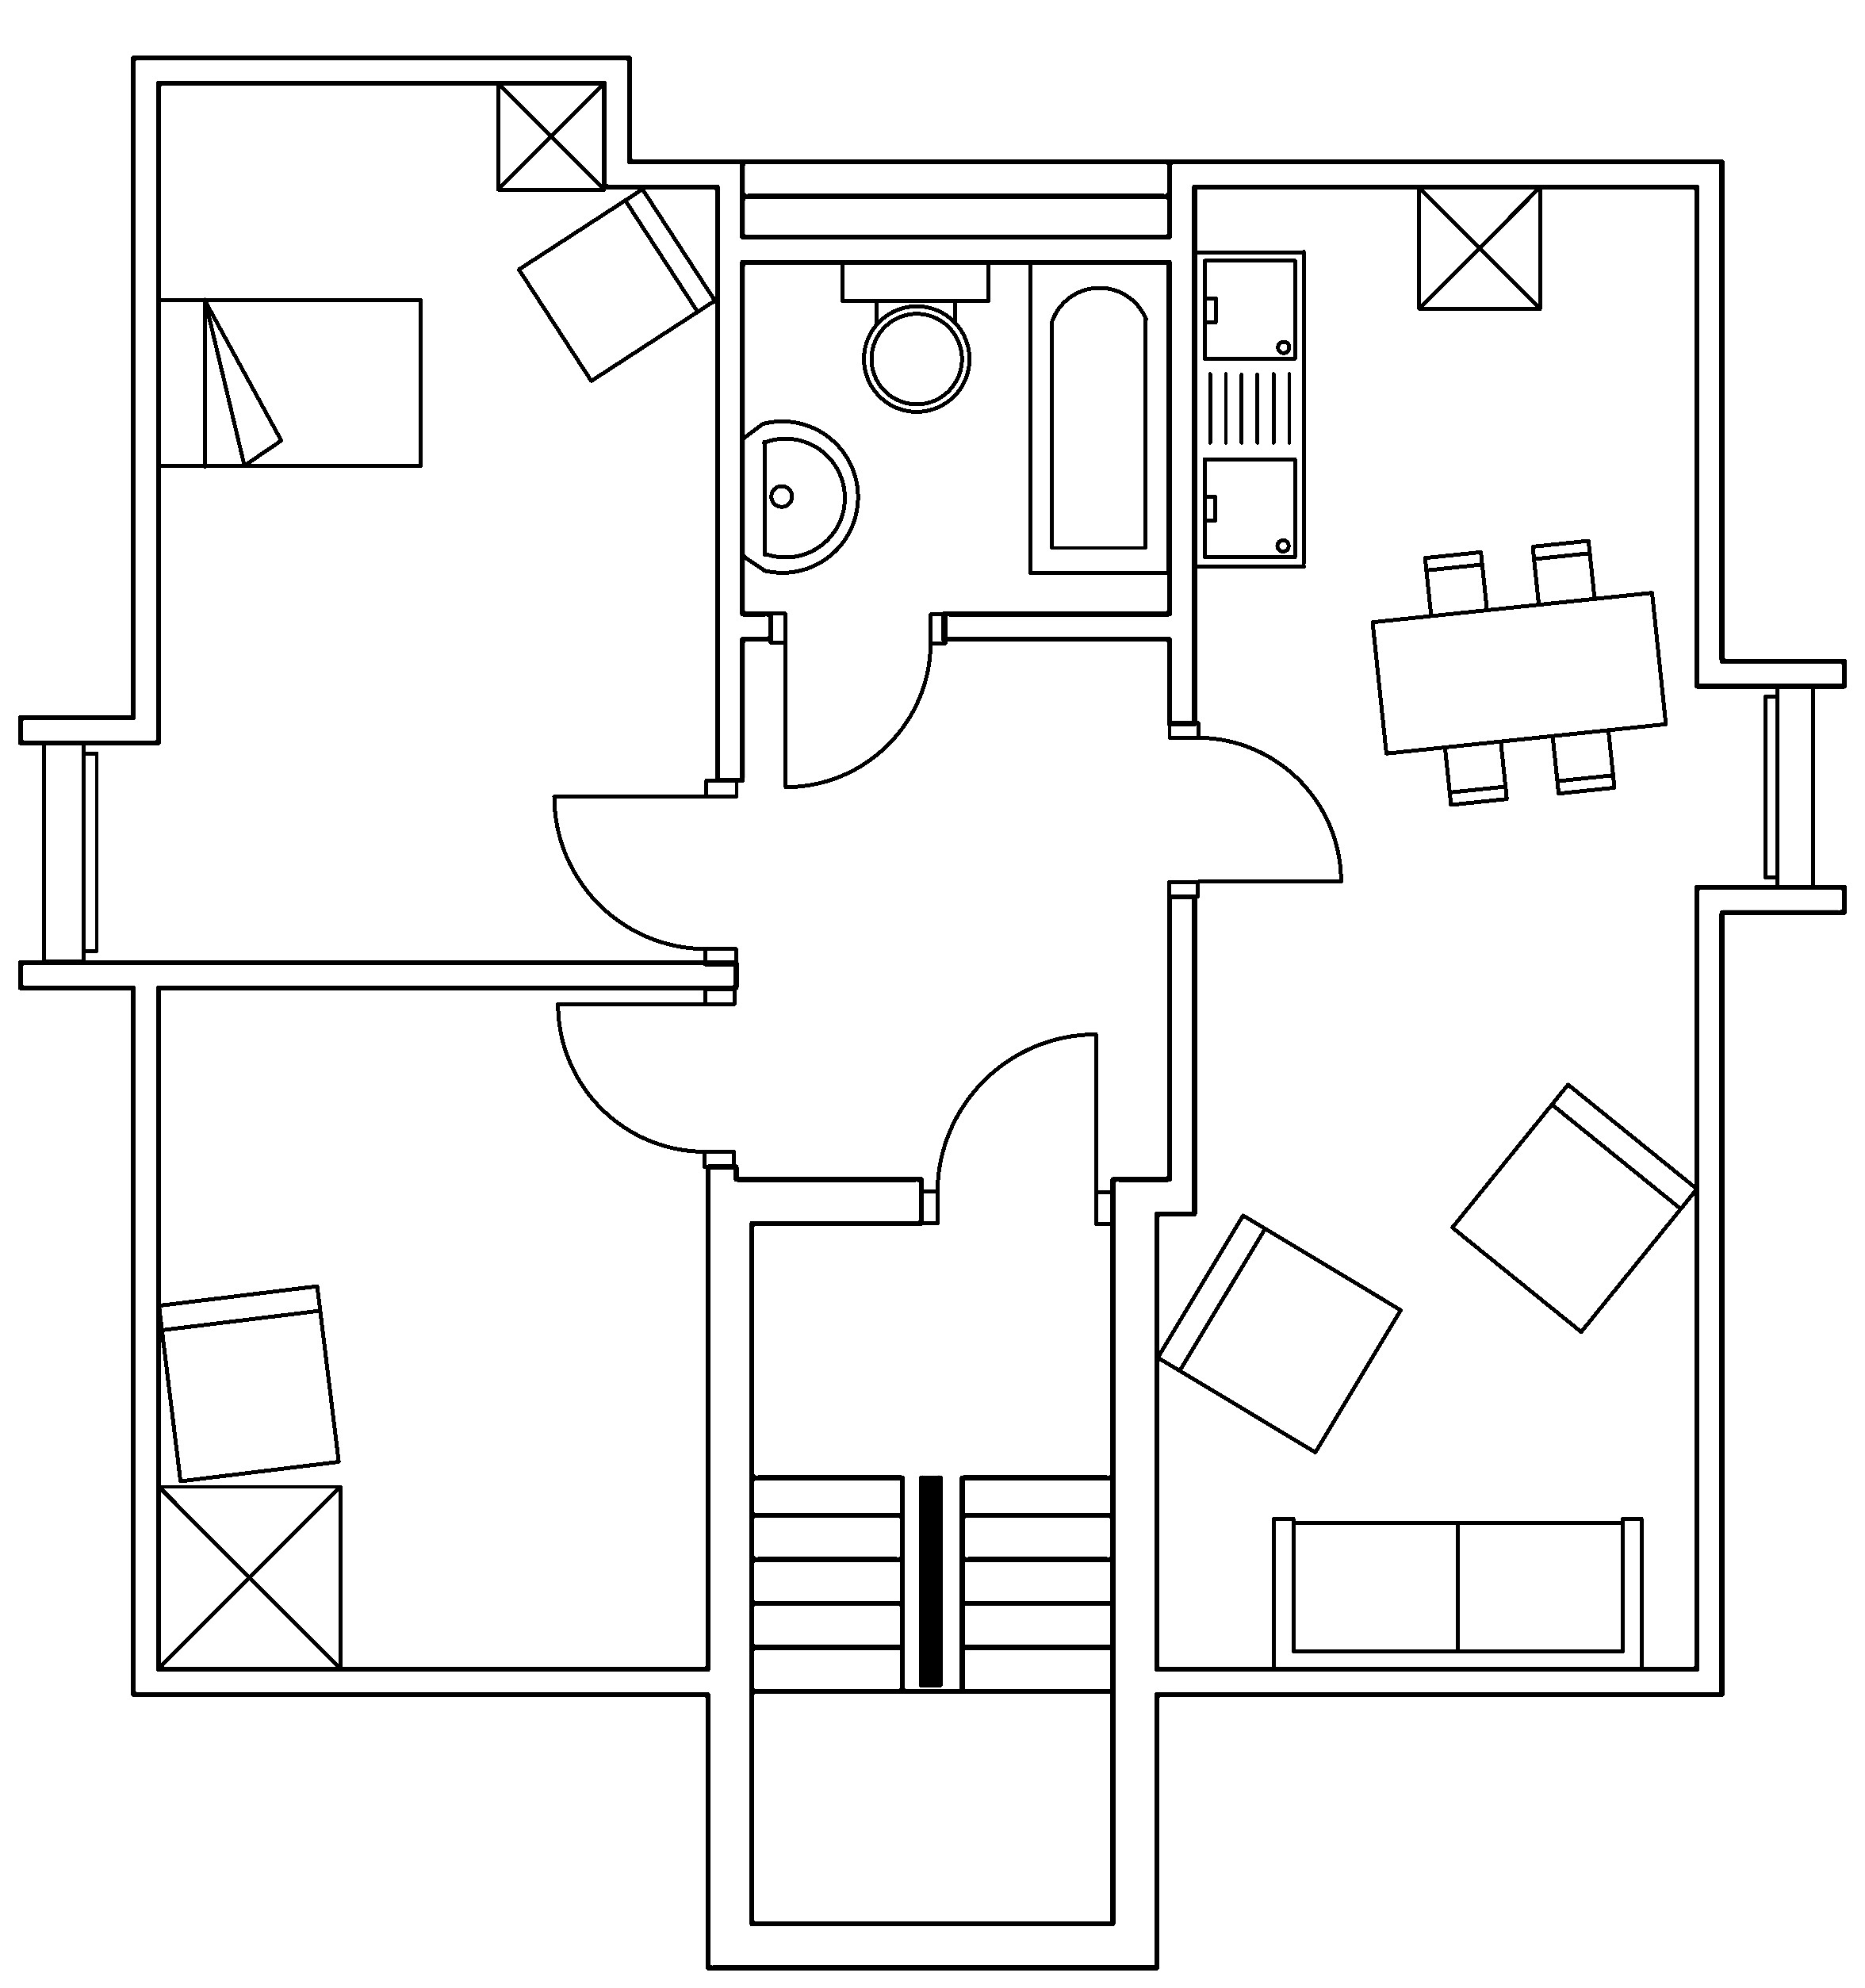bed: (154, 296, 422, 468)
coffee_table: (154, 1481, 342, 1671), (1416, 182, 1542, 310), (494, 79, 606, 191)
dining_table: (1369, 536, 1669, 806)
large_sink: (840, 258, 990, 412)
large_sofa: (1271, 1515, 1644, 1672)
small_sink: (740, 419, 859, 573)
small_sofa: (1448, 1082, 1698, 1334), (1153, 1211, 1404, 1455), (515, 186, 717, 382), (156, 1282, 342, 1483)
tub: (1027, 258, 1171, 575)
twin_sink: (1192, 247, 1308, 570)
